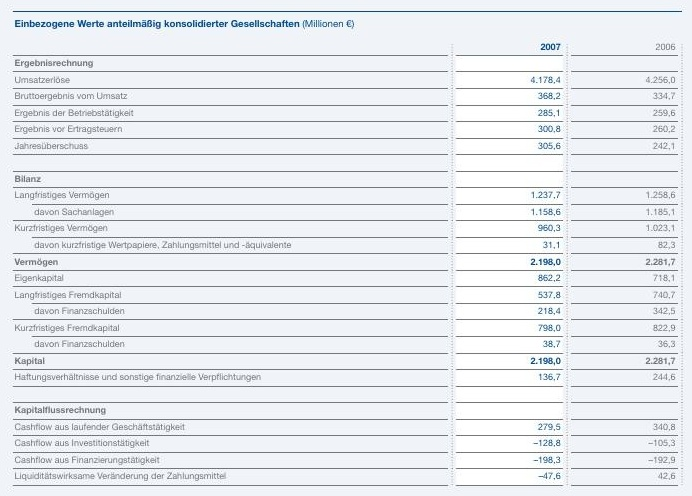table: (0, 0, 692, 496)
